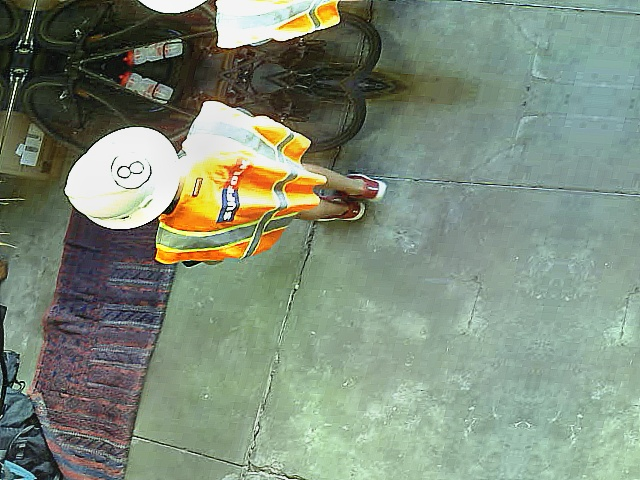eight: (103, 147, 157, 191)
